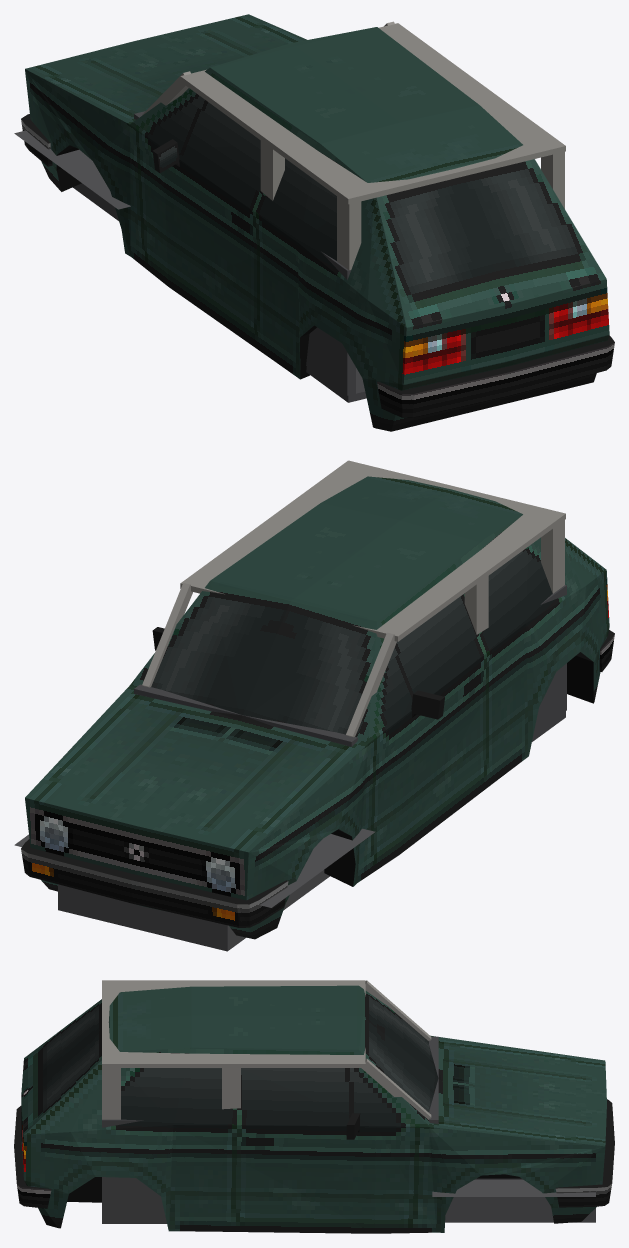
File: hatch.glb
3 views of the same model, one above another, from view 1: azimuth 30°, elevation 25°; view 2: azimuth 150°, elevation 25°; view 3: azimuth 270°, elevation 25° (orthographic). The views are drawn at different scales.
Visible parts, largest first — view 1: body, interior, hood, bay; view 2: body, hood, interior, bay; view 3: body, hood, interior, bay.
Part boxes in pixels (x1=…): body: x1=21, y1=27, x2=614, y2=431; interior: x1=134, y1=21, x2=565, y2=402; hood: x1=21, y1=14, x2=306, y2=143; bay: x1=14, y1=130, x2=130, y2=220; body: x1=21, y1=476, x2=614, y2=939; hood: x1=21, y1=685, x2=367, y2=904; interior: x1=134, y1=460, x2=566, y2=746; bay: x1=14, y1=828, x2=375, y2=951; body: x1=14, y1=985, x2=612, y2=1233; hood: x1=429, y1=1035, x2=614, y2=1188; interior: x1=102, y1=980, x2=438, y2=1223; bay: x1=432, y1=1178, x2=595, y2=1222.
Size of the model in its own units: 1.65 by 1.22 by 3.8.
Materials: 8 (1 with a texture image).
